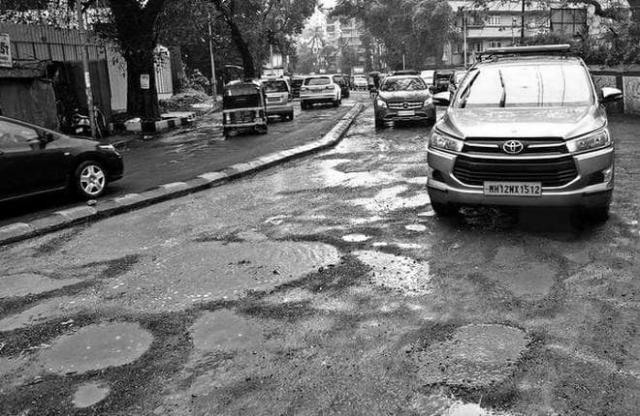Pothole: (61, 150, 366, 342), (424, 226, 620, 316), (38, 327, 186, 384), (432, 312, 566, 370), (418, 363, 551, 416), (0, 256, 81, 340)
